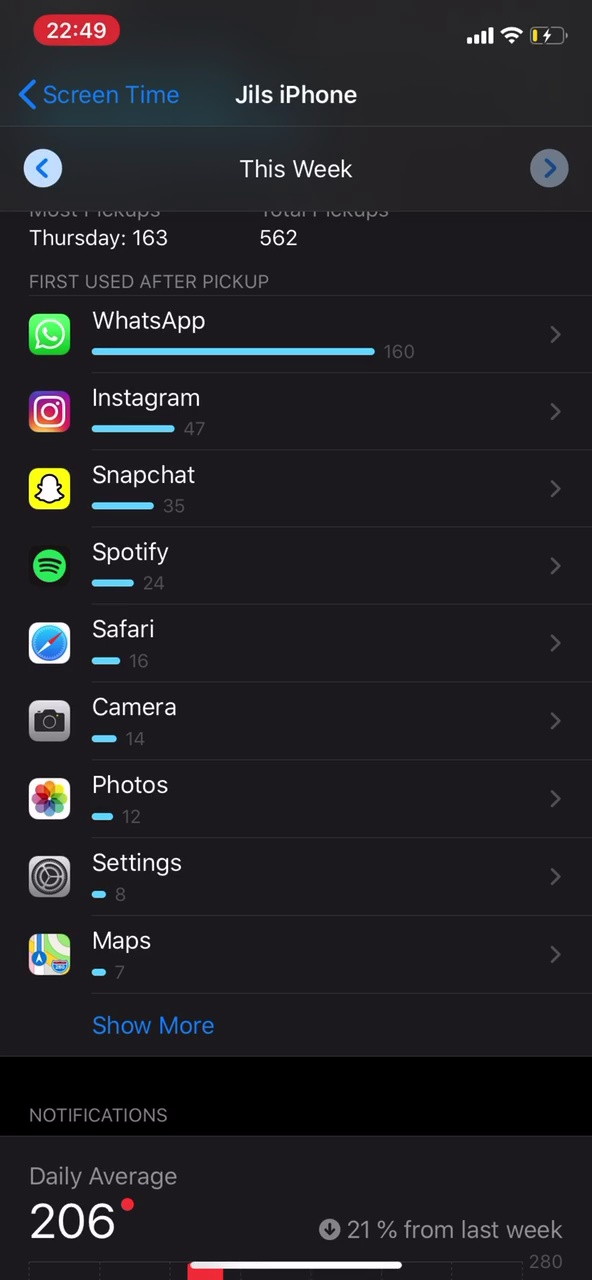not_over: (23, 1096, 181, 1250)
pick_app: (14, 299, 425, 378), (22, 447, 232, 525), (20, 530, 231, 607), (15, 614, 226, 682), (18, 382, 228, 446), (23, 917, 201, 991), (22, 692, 197, 760), (23, 846, 198, 907), (23, 772, 195, 833)
week: (227, 148, 362, 187)
